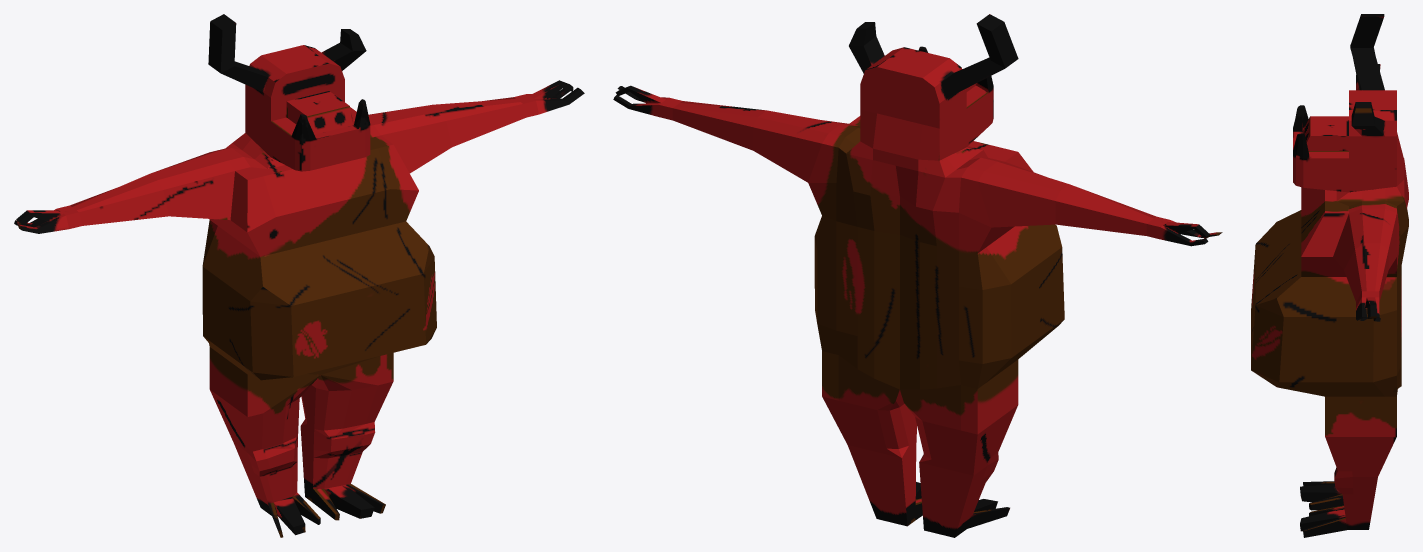
File: fatty.fbx
3 renders of one model, left to right at view 1: azimuth 30°, elevation 25°; view 2: azimuth 150°, elevation 25°; view 3: azimuth 270°, elevation 25°, orthographic. The views are drawn at different scales.
Parts seen in each view (by area): view 1: Cube; view 2: Cube; view 3: Cube.
Boxes of the visible parts, left/top/right/bottom form: Cube: left=14, top=14, right=584, bottom=537; Cube: left=613, top=14, right=1222, bottom=537; Cube: left=1251, top=14, right=1408, bottom=537.
Bounding box in the file's own units: 1707 × 1438 × 440.
Materials: 1 (1 with a texture image).
